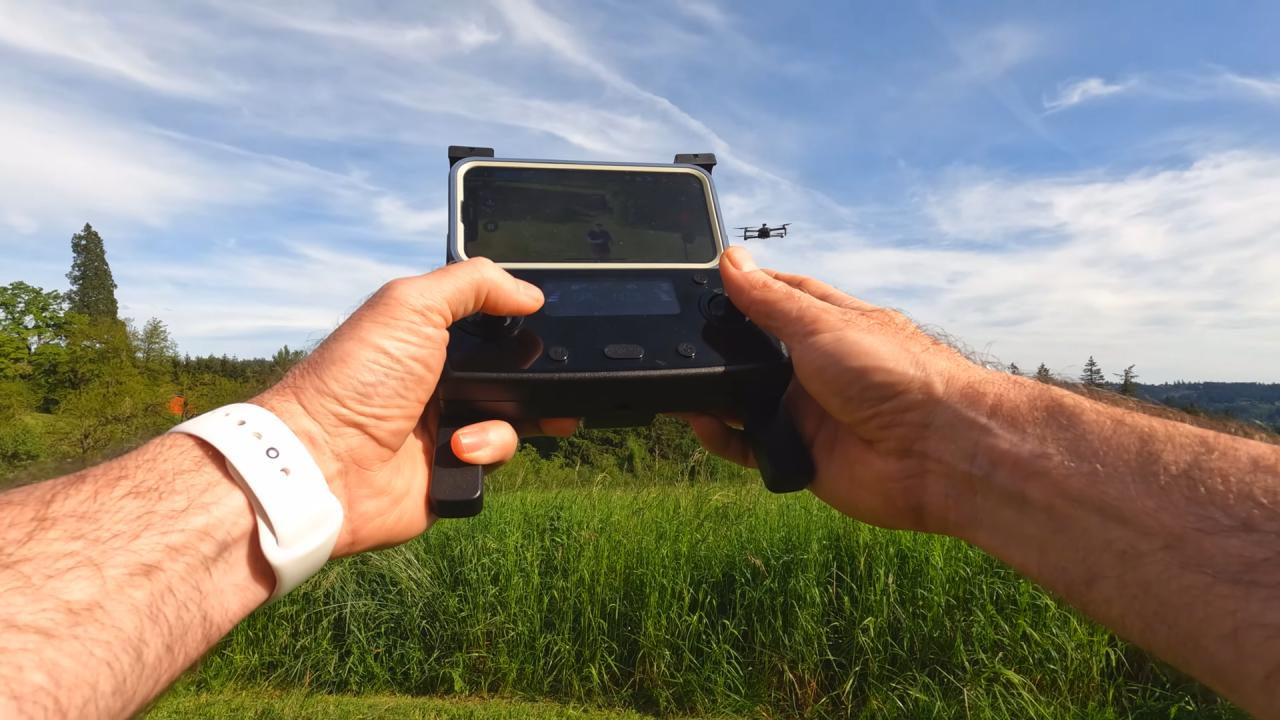Drone: (725, 210, 802, 256)
